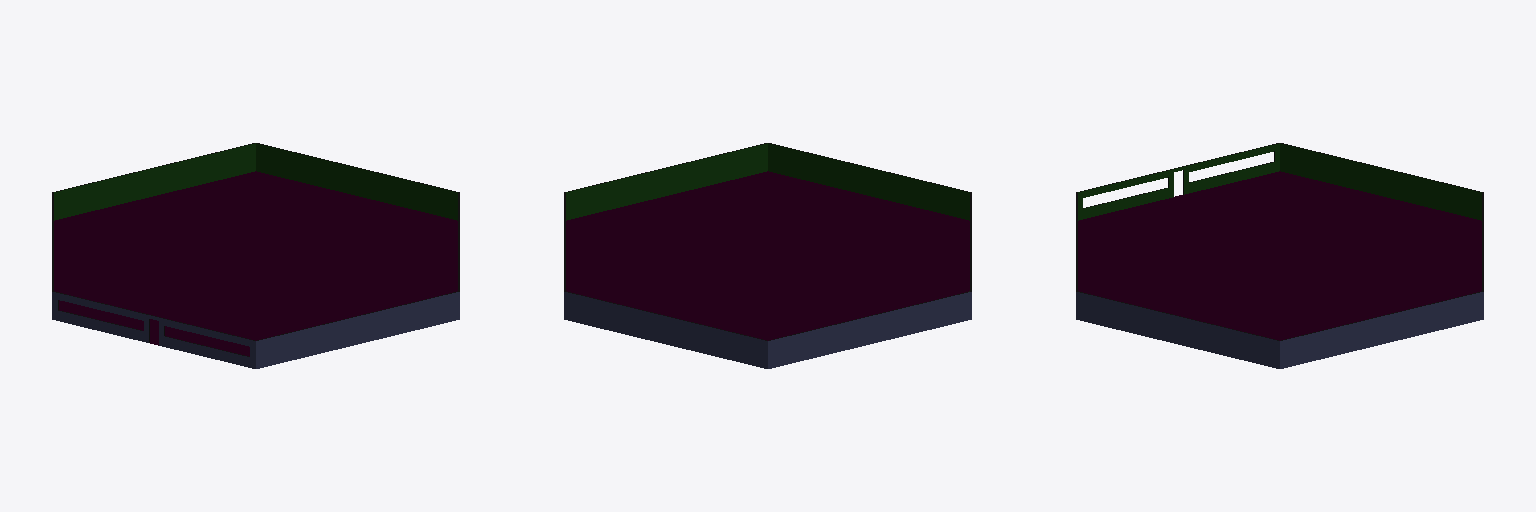
File: SpaceStationBarGrillBase.obj
3 views of the same model, side by side, from view 1: azimuth 30°, elevation 25°; view 2: azimuth 150°, elevation 25°; view 3: azimuth 270°, elevation 25° (orthographic).
Visible parts, largest first — view 1: Mesh1 Group1 Model, Mesh7 Group3 Model, Mesh3 Group2 Model, Mesh11 Group4 Model; view 2: Mesh1 Group1 Model, Mesh3 Group2 Model, Mesh7 Group3 Model, Mesh11 Group4 Model; view 3: Mesh1 Group1 Model, Mesh3 Group2 Model, Mesh7 Group3 Model, Mesh11 Group4 Model.
Boxes of the visible parts, box(x1,y1,x2,y2) form: Mesh1 Group1 Model: box(54, 171, 457, 356); Mesh7 Group3 Model: box(54, 143, 457, 220); Mesh3 Group2 Model: box(52, 292, 459, 368); Mesh11 Group4 Model: box(52, 143, 459, 340); Mesh1 Group1 Model: box(566, 171, 969, 340); Mesh3 Group2 Model: box(564, 292, 971, 368); Mesh7 Group3 Model: box(566, 143, 969, 291); Mesh11 Group4 Model: box(564, 143, 971, 340); Mesh1 Group1 Model: box(1078, 171, 1481, 340); Mesh3 Group2 Model: box(1076, 292, 1483, 368); Mesh7 Group3 Model: box(1078, 143, 1481, 220); Mesh11 Group4 Model: box(1076, 143, 1483, 340).
Bounding box in the file's own units: 40.23 × 2.66 × 34.84.